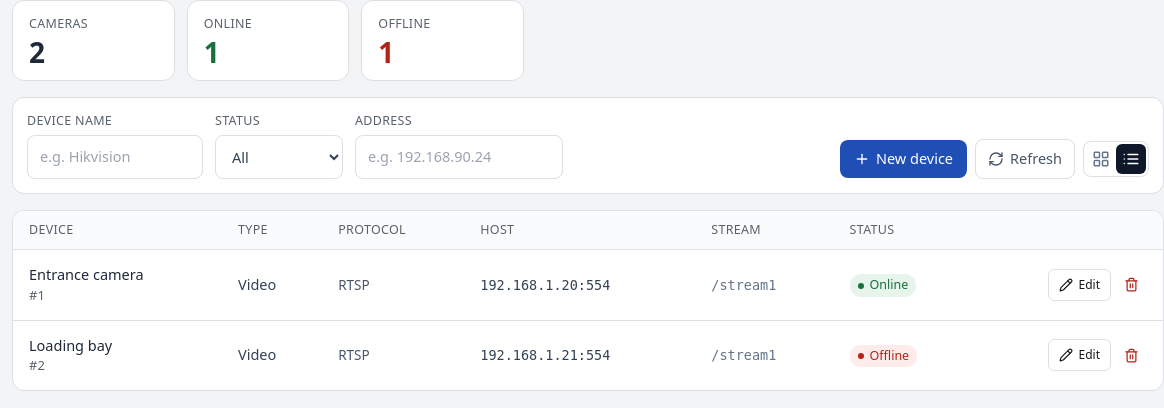
Test case: DevicesTable › renders online/offline status, filters by name, and resets filters
The image size is (1164, 408).
Check: the text "Entrance camera" is shown, box x1=29 y1=264 x2=144 y2=284
Check: the text "Loading bay" is shown, box x1=29 y1=334 x2=112 y2=354
Type "Entrance" into the field with placeholder "e.g. Hikvision" at (115, 157), box x1=27 y1=135 x2=203 y2=179
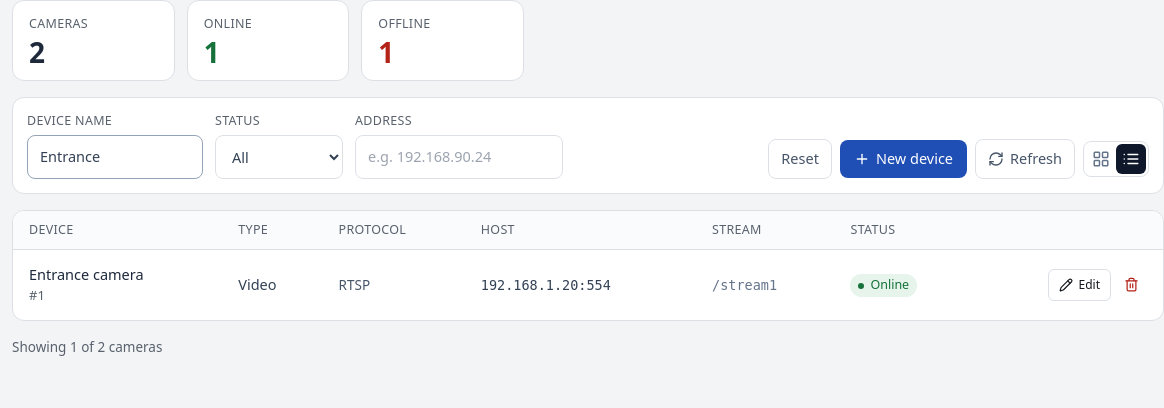
Check: the text "Showing 1 of 2 cameras" is shown, box x1=12 y1=338 x2=162 y2=356
Click the button "Reset" at (800, 159), box x1=768 y1=139 x2=832 y2=179
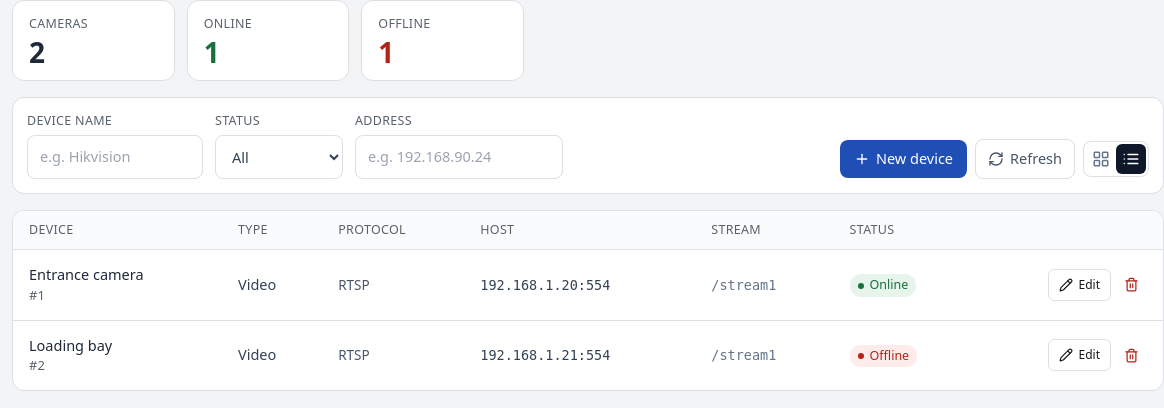
Check: the text "Loading bay" is shown, box x1=29 y1=334 x2=112 y2=354
